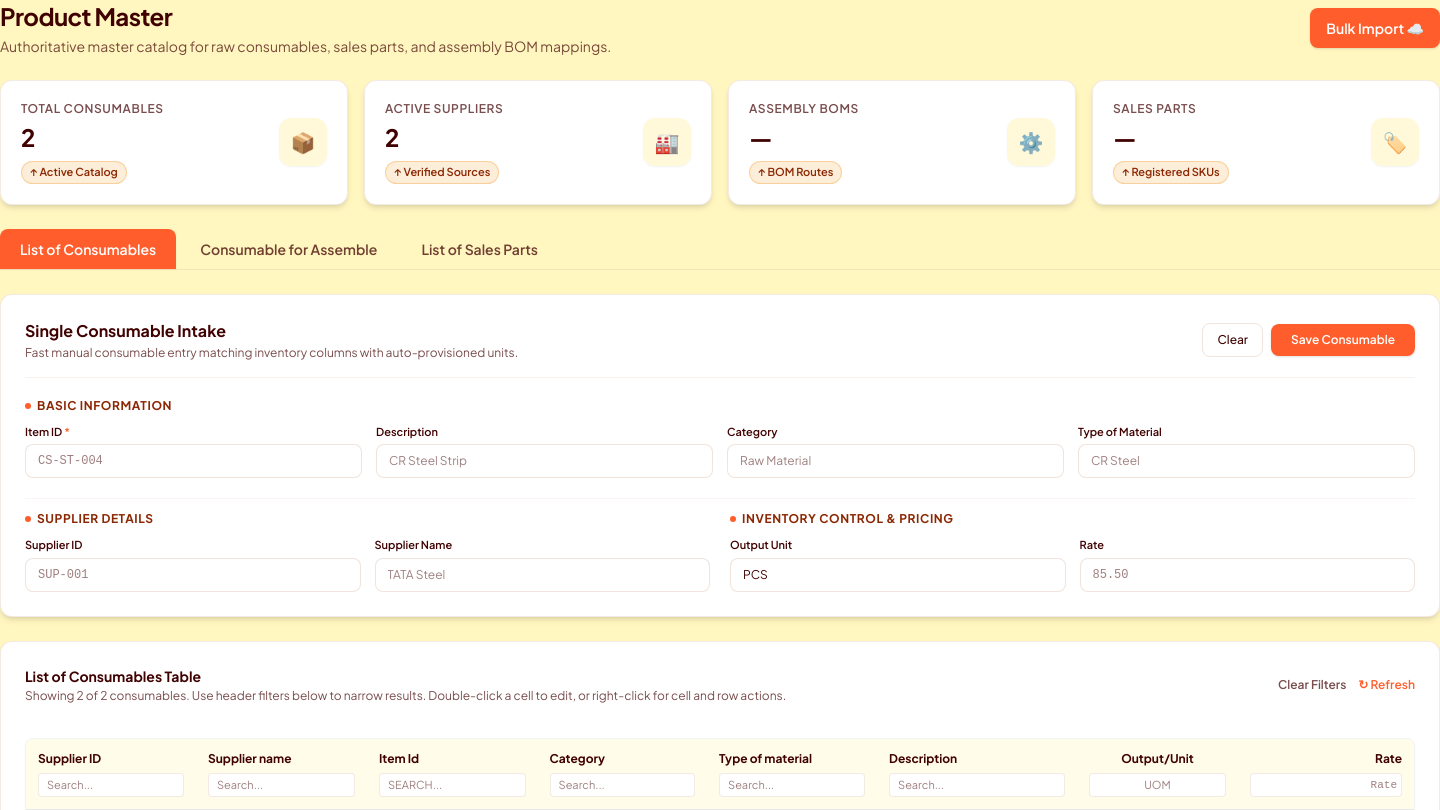
Scenario: localized inline search dynamically filters table records
Type "SUP-01" into the 1st field with placeholder "Search...".
click(111, 785); type("SUP-01")  # box x1=38 y1=772 x2=184 y2=797
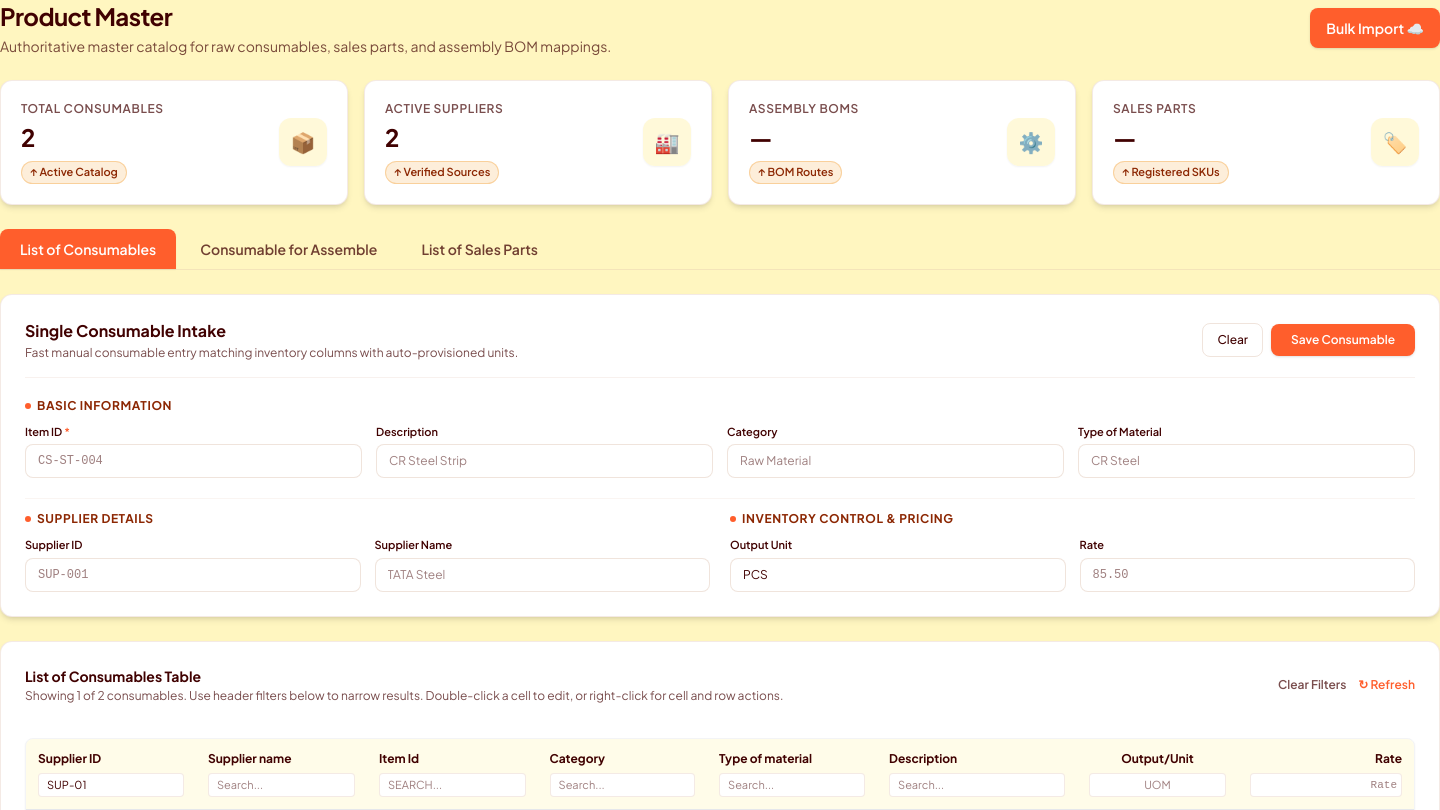
Check: the text "CS-AL-002" is not shown
Click the button "Clear Filters".
click(1312, 684)  # box x1=1278 y1=676 x2=1346 y2=692
(page scrolled)
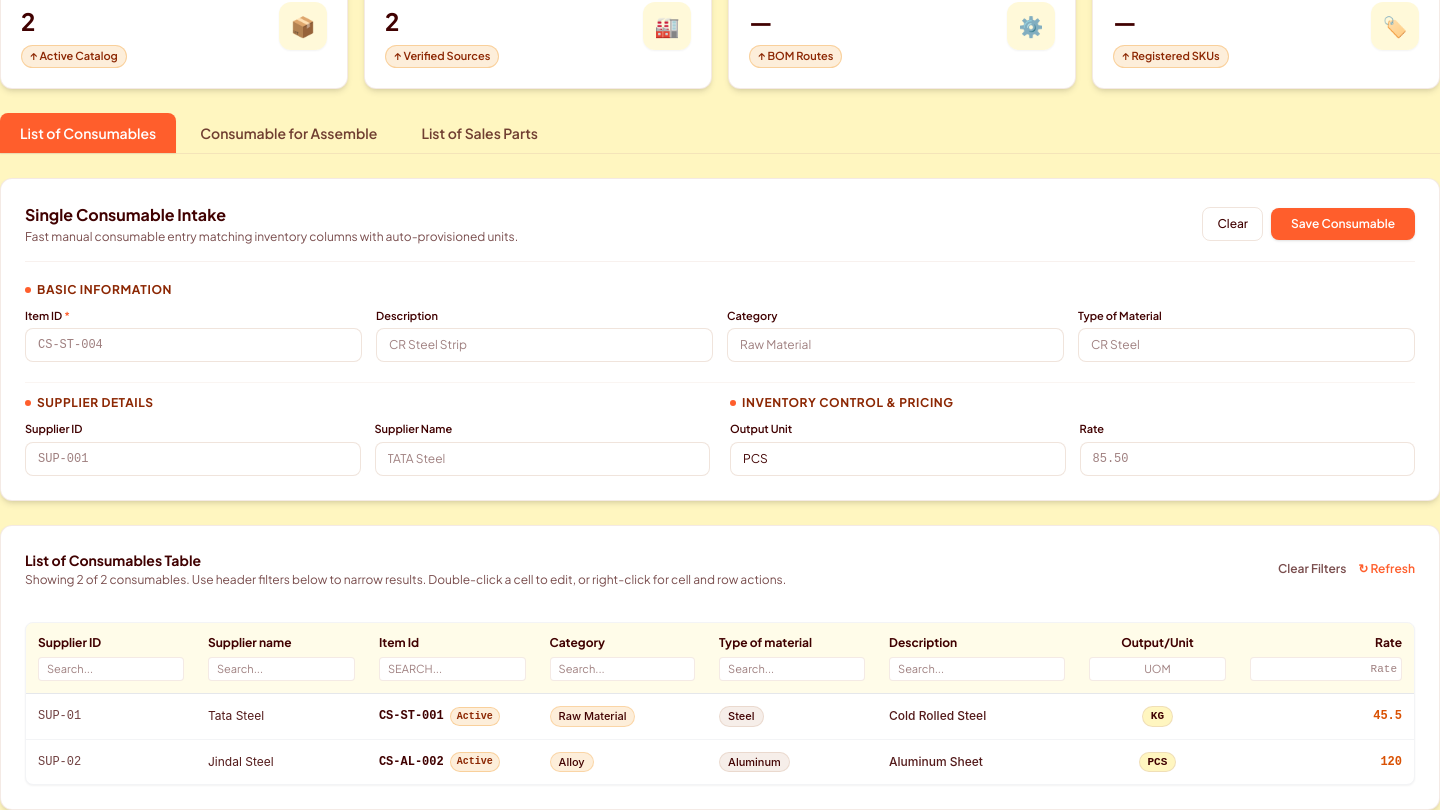
Check: the text "CS-AL-002" is shown, box x1=379 y1=754 x2=444 y2=770
